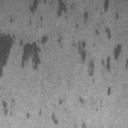red iron: (0, 0, 128, 96), (26, 98, 64, 125), (2, 100, 8, 116), (79, 96, 85, 104), (82, 122, 86, 128)
